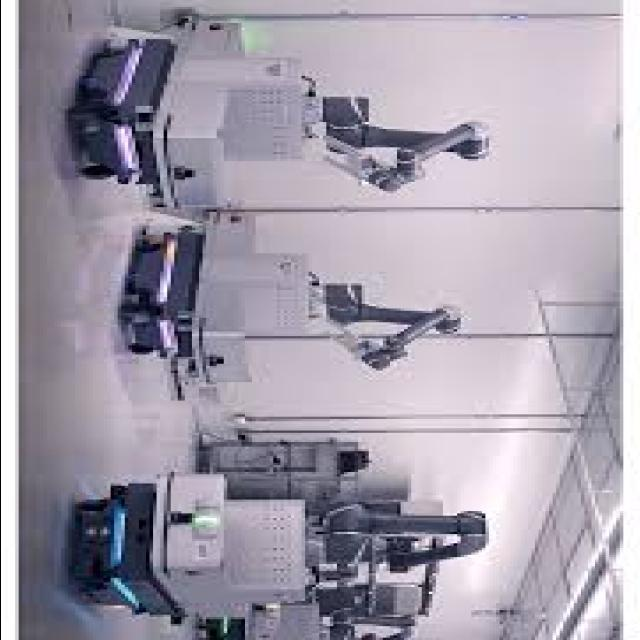Robotic-arm: (312, 88, 492, 202), (313, 276, 469, 371), (321, 493, 498, 575)
